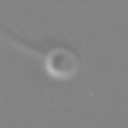normal: (1, 28, 49, 59)
